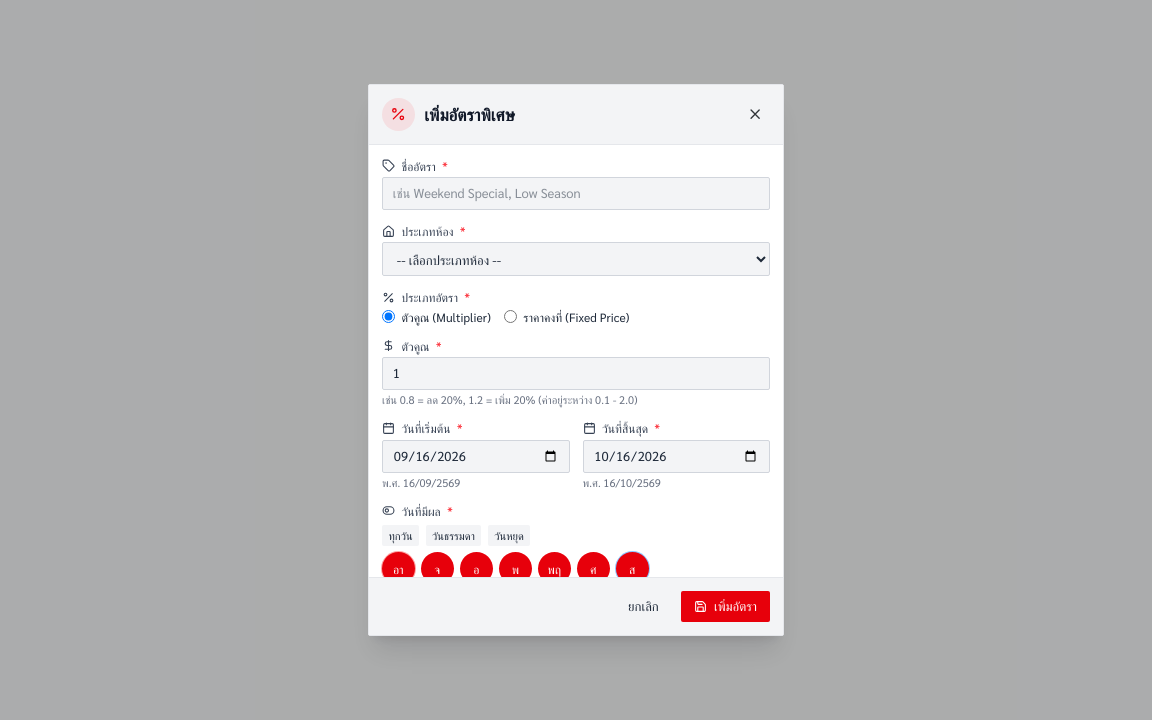
RateForm Component › Rate Type Toggle › switches to fixed price mode
Click the radio button labelled "ราคาคงที่ (Fixed Price)": (510, 317) [504,310,517,323]
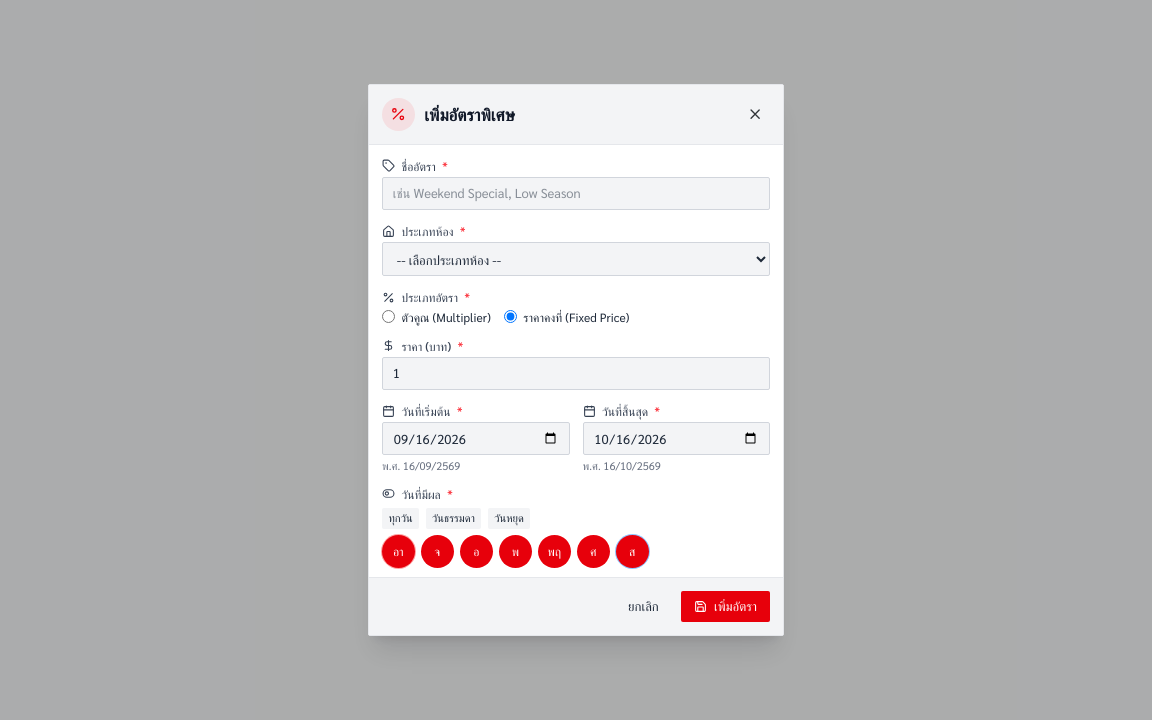
Now the radio button labelled "ราคาคงที่ (Fixed Price)" is checked, box [504,310,517,323]
Now the text "ราคา (บาท) *" is shown, box [382,338,463,354]
